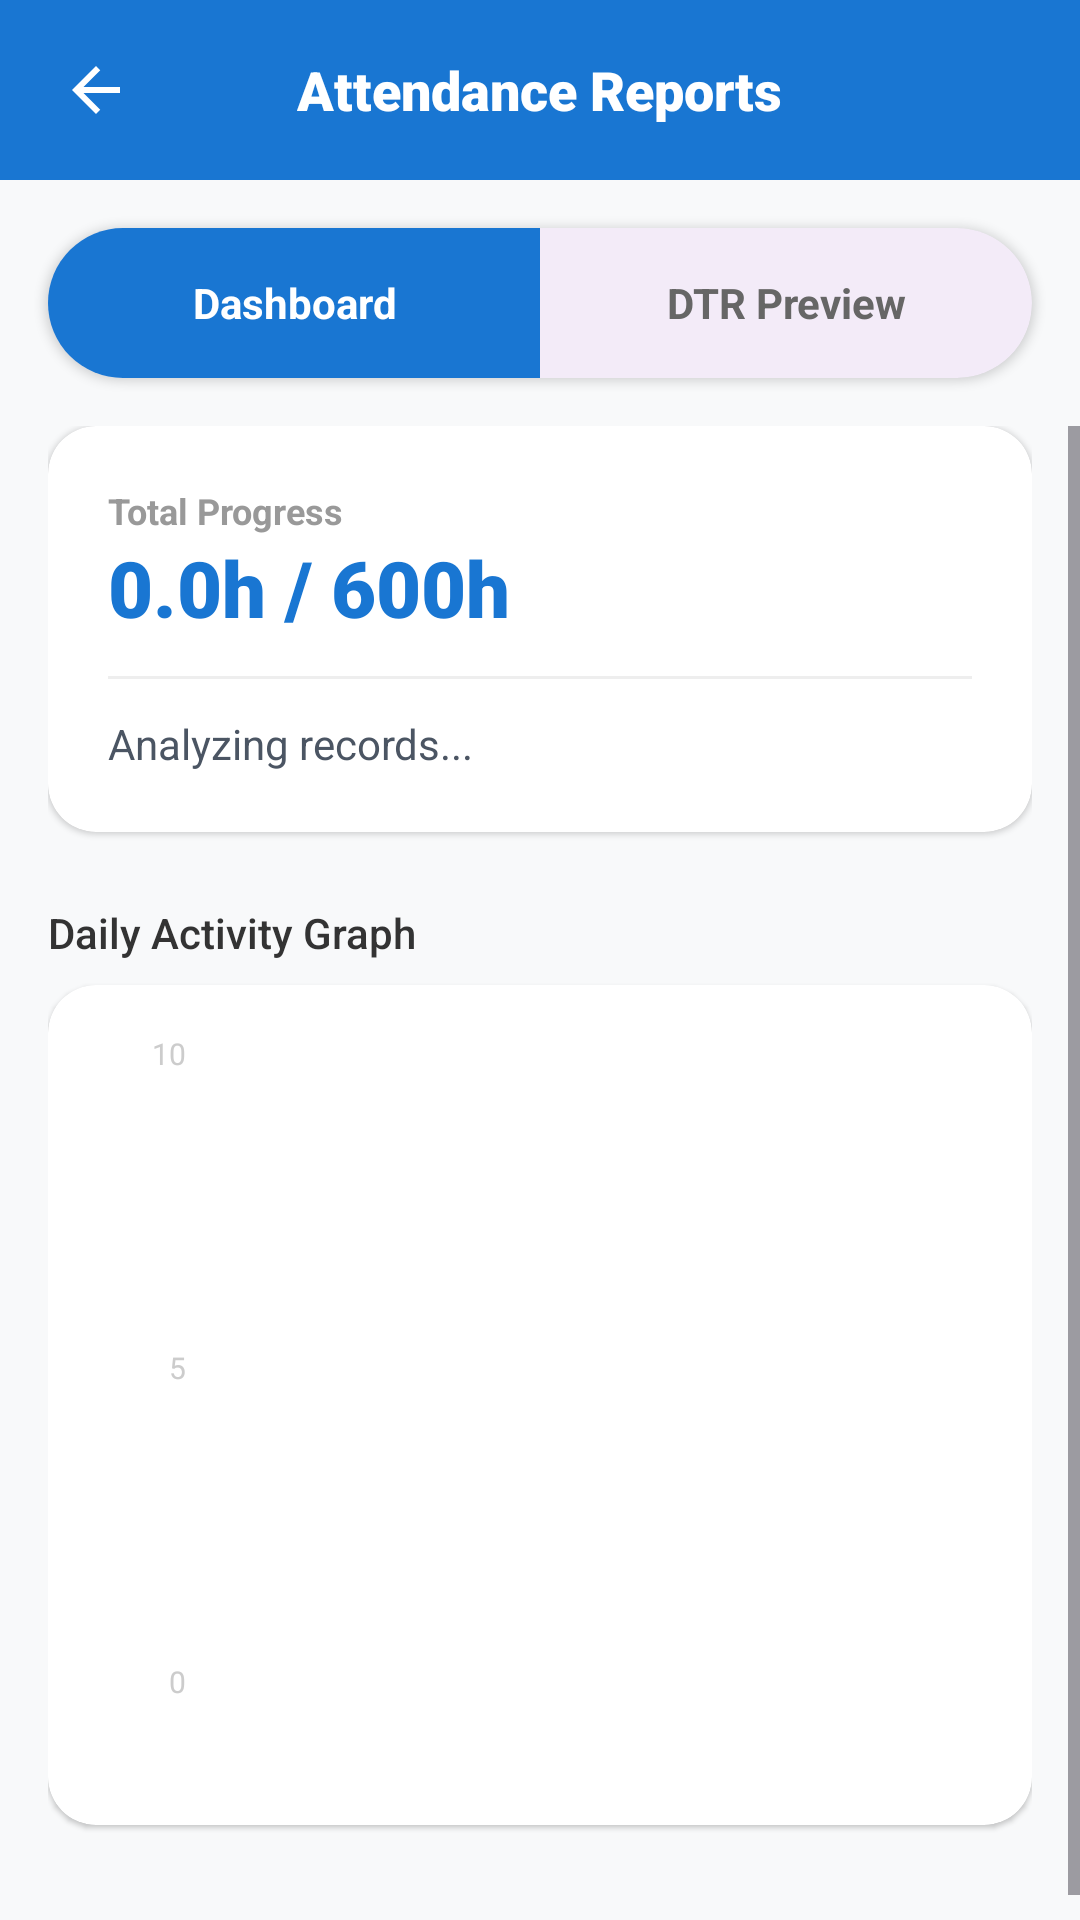

Icons on this 1080 x 1920 Android screen, each with the point to tap as point (x, y):
arrow back: point (96, 90)
